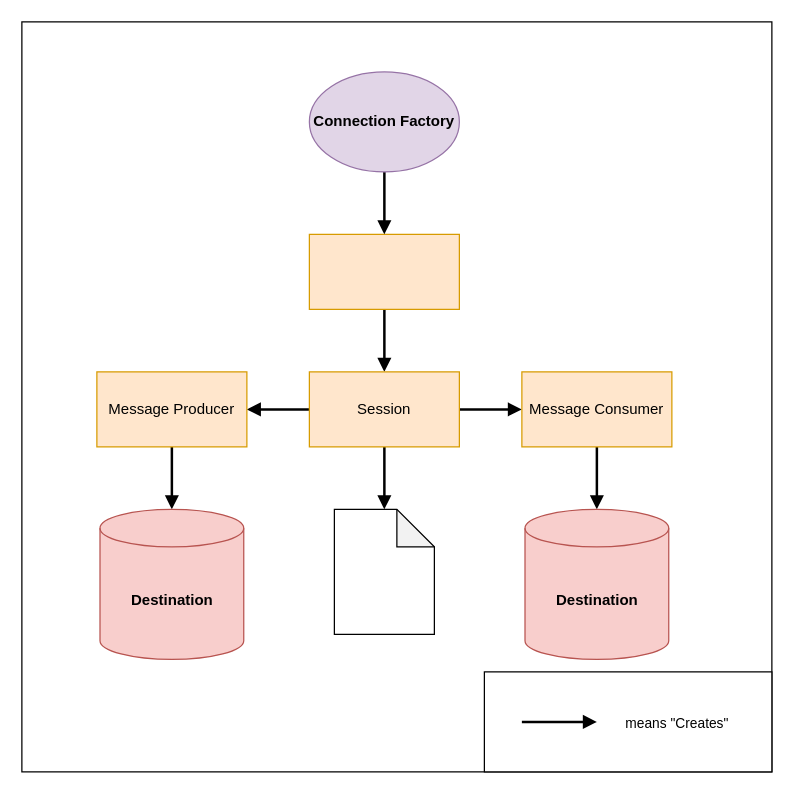
This 794x794 diagram has some shape labels left out. The box of each missing label's shape, as (x1, y1, x2, y2) in pixels:
Connection: (308, 233, 459, 309)
Message: (333, 508, 434, 634)
